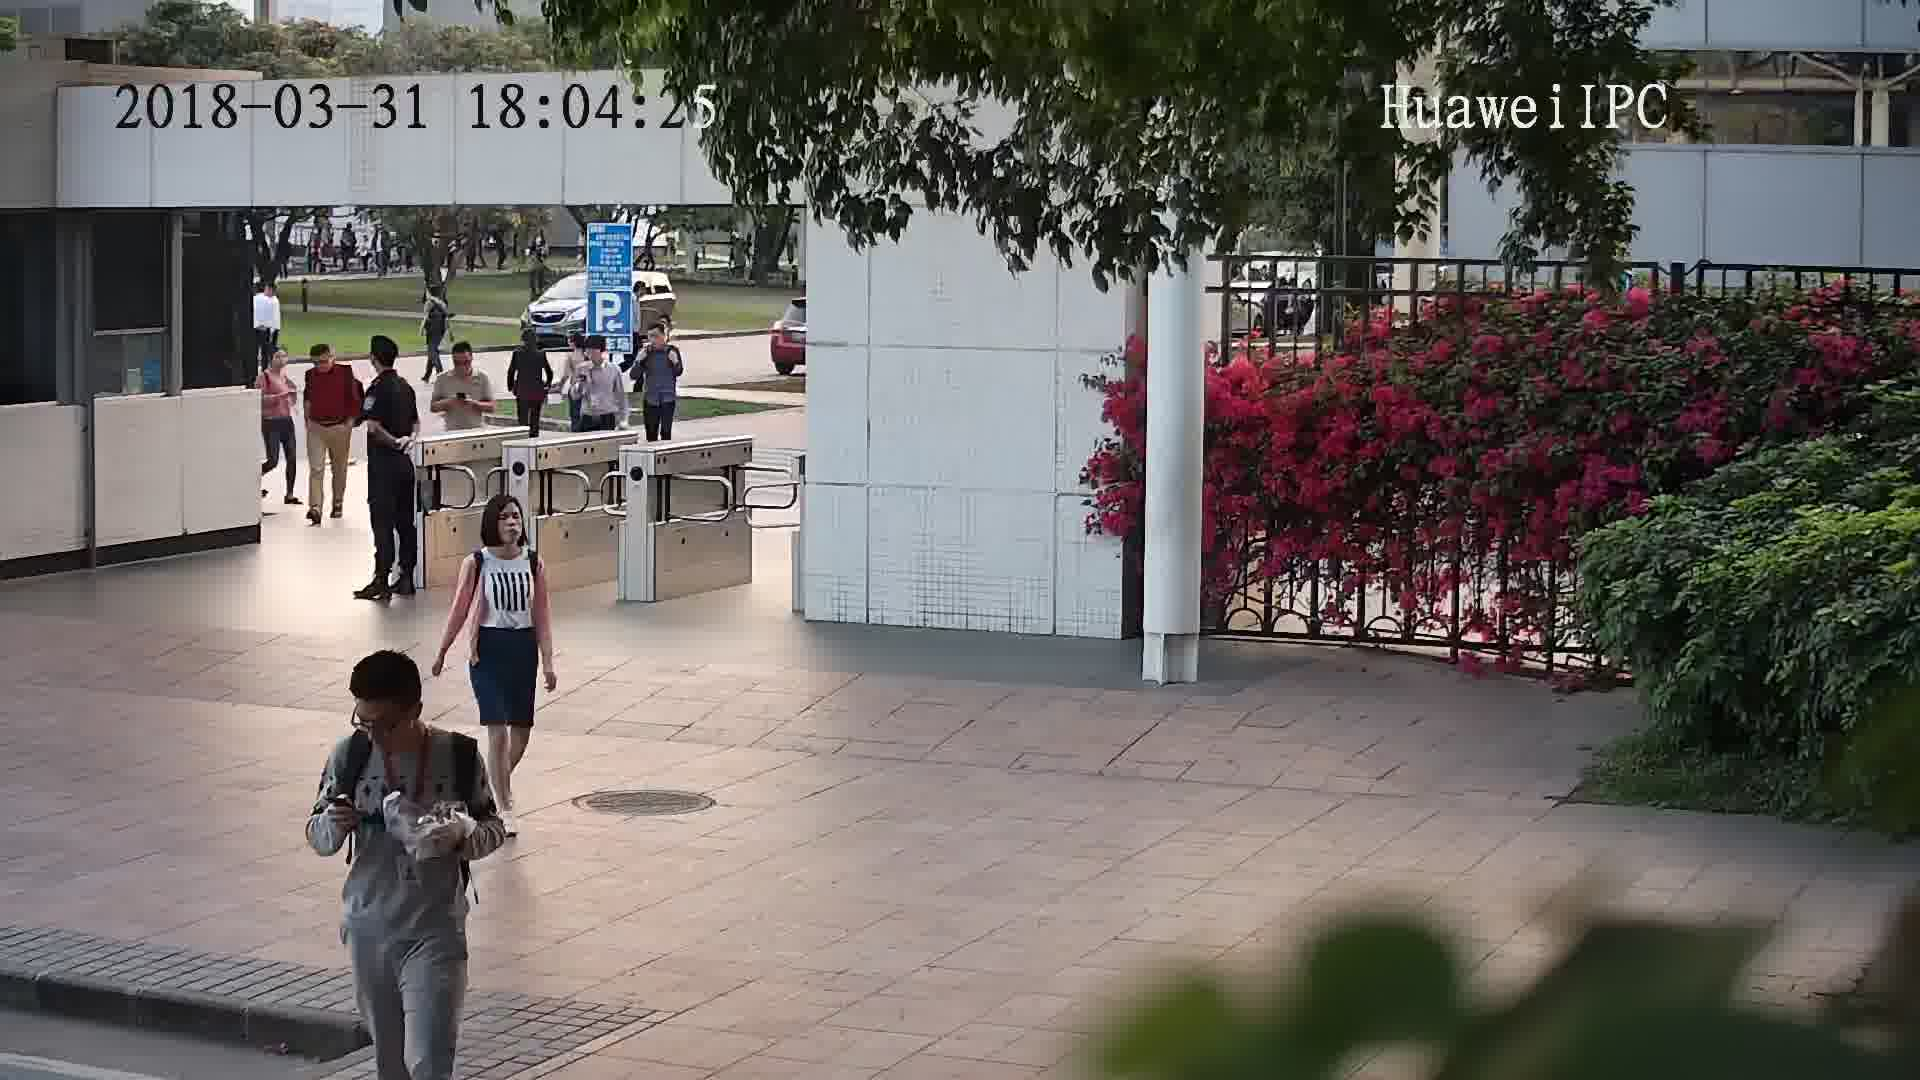face: (354, 692, 415, 753), (493, 502, 525, 544)
person: (329, 649, 476, 778), (465, 491, 544, 577), (362, 333, 412, 396), (436, 337, 489, 387), (303, 338, 353, 384), (576, 335, 625, 377), (639, 319, 682, 360), (255, 341, 293, 387), (512, 327, 547, 362), (252, 273, 280, 310), (562, 329, 591, 362), (420, 281, 448, 309)
